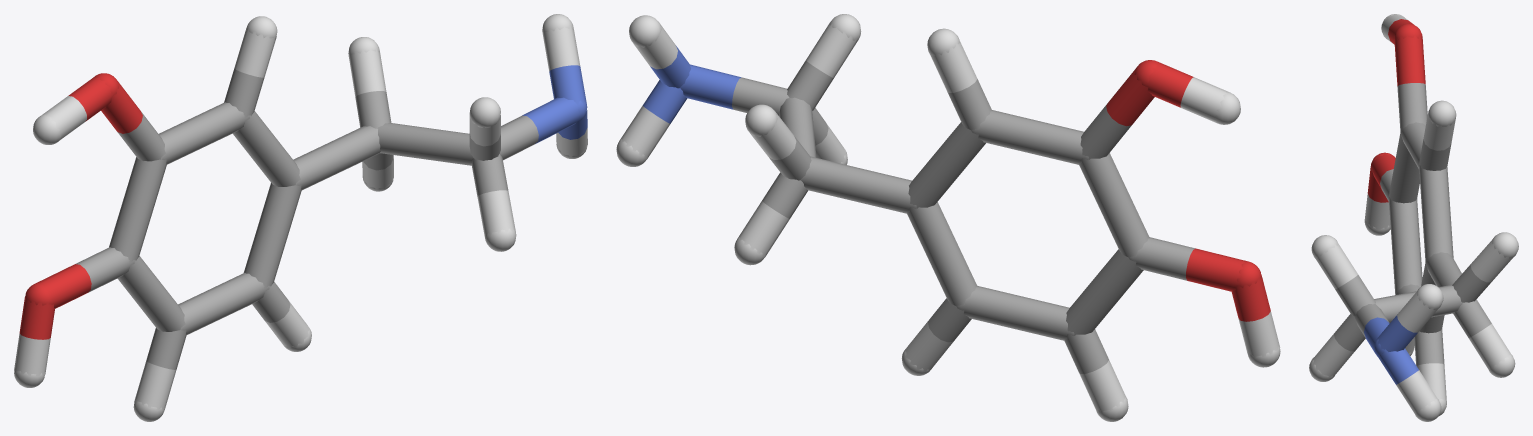
Rendered from dopamine-sticks.glb.
3 views of the same model, side by side, from view 1: azimuth 30°, elevation 25°; view 2: azimuth 150°, elevation 25°; view 3: azimuth 270°, elevation 25° (orthographic). The views are drawn at different scales.
Visible parts, largest first — view 1: dopamine-sticks; view 2: dopamine-sticks; view 3: dopamine-sticks.
Boxes of the visible parts, x1,y1,x2,y2 form: dopamine-sticks: [14, 14, 587, 421]; dopamine-sticks: [616, 14, 1280, 421]; dopamine-sticks: [1309, 14, 1518, 421].
Size of the model in its own units: 8.7 by 4.92 by 2.95.
